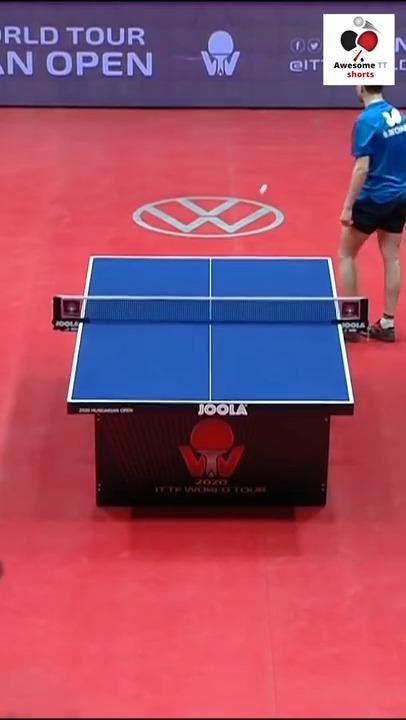Ball: (259, 182, 268, 194)
